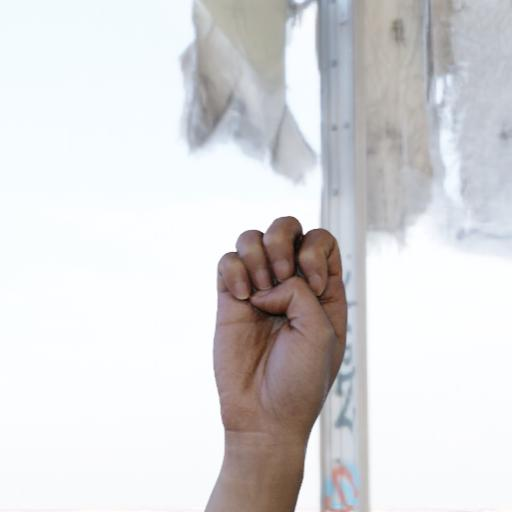E: (188, 202, 376, 446)
